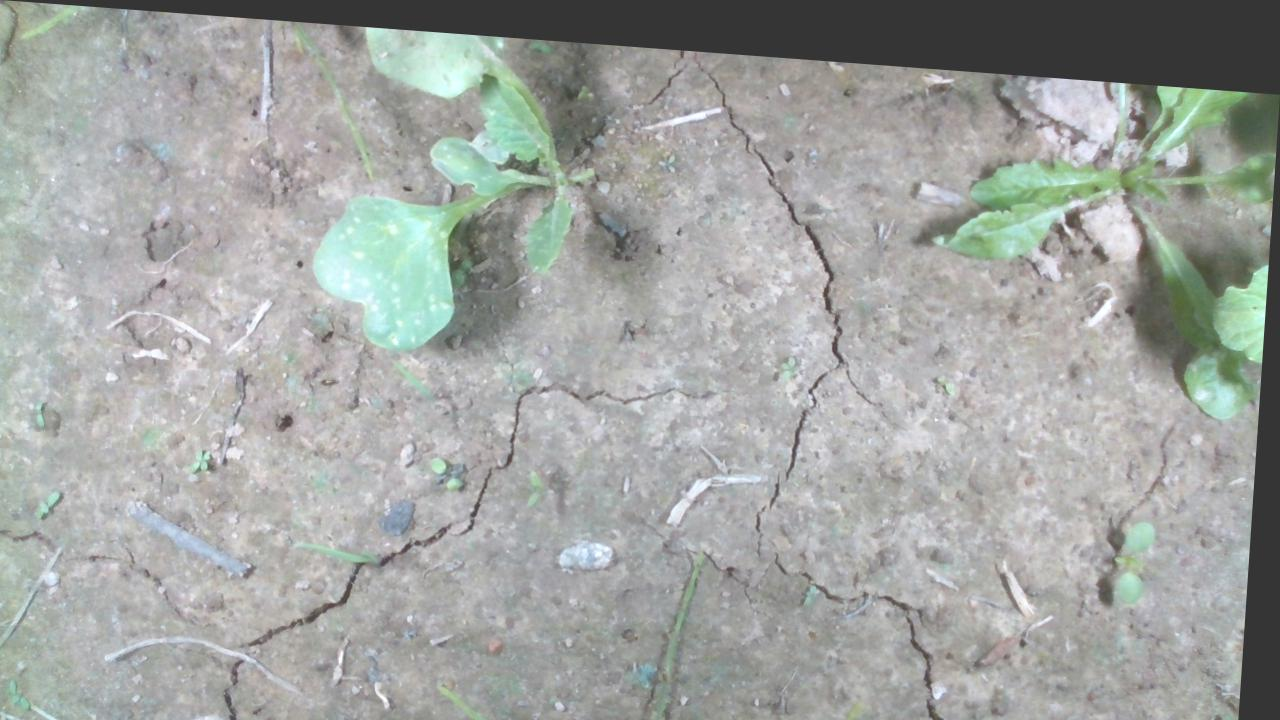weed: (1115, 498, 1161, 590), (431, 446, 471, 484), (531, 456, 551, 499)
